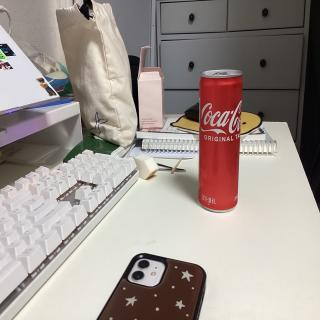cocacola: (197, 64, 244, 212)
